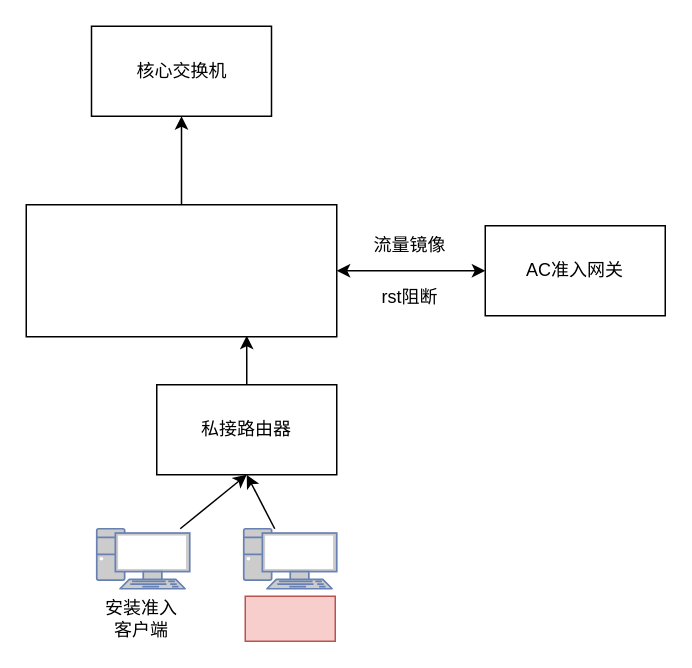
This 692x668 diagram has some shape labels left out. Each missing label, with the centre of its shape:
交换机: point 181,270
未安装准入客户端: point 289,618
